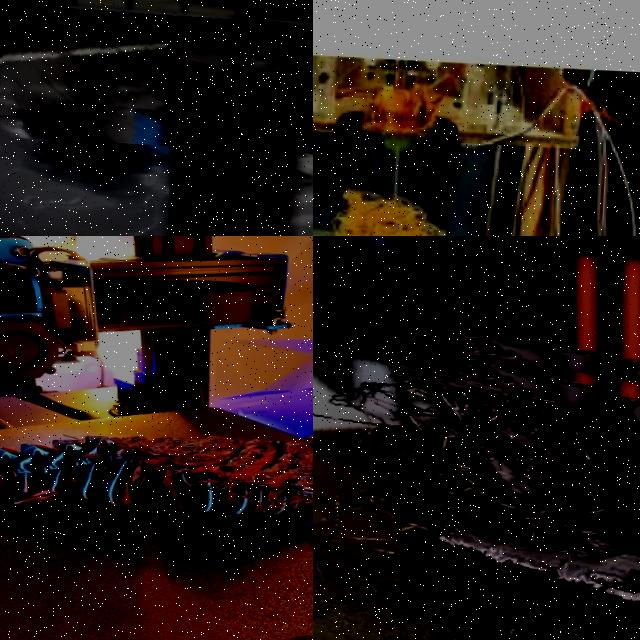spaghetti: (313, 323, 640, 640), (0, 0, 313, 160), (120, 427, 313, 517)
